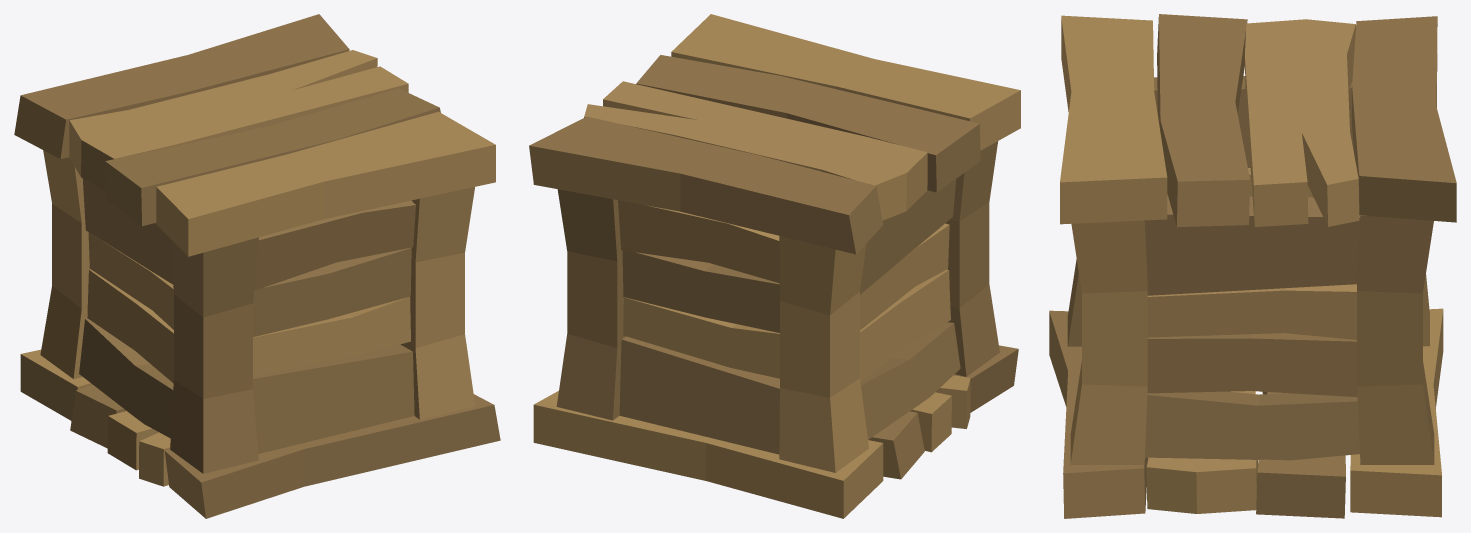
The model's file is Wooden_Box.gltf.
The picture shows the model from 3 angles, left to right: view 1: azimuth 30°, elevation 25°; view 2: azimuth 150°, elevation 25°; view 3: azimuth 270°, elevation 25°; orthographic projection. The views are drawn at different scales.
Visible parts, largest first — view 1: Wooden_Box2; view 2: Wooden_Box2; view 3: Wooden_Box2.
Boxes of the visible parts, box(x1,y1,x2,y2) form: Wooden_Box2: box(14, 14, 500, 518); Wooden_Box2: box(529, 14, 1020, 518); Wooden_Box2: box(1049, 14, 1456, 518).
Size of the model in its own units: 0.187 by 0.1671 by 0.1855.
Materials: 1 (1 with a texture image).
